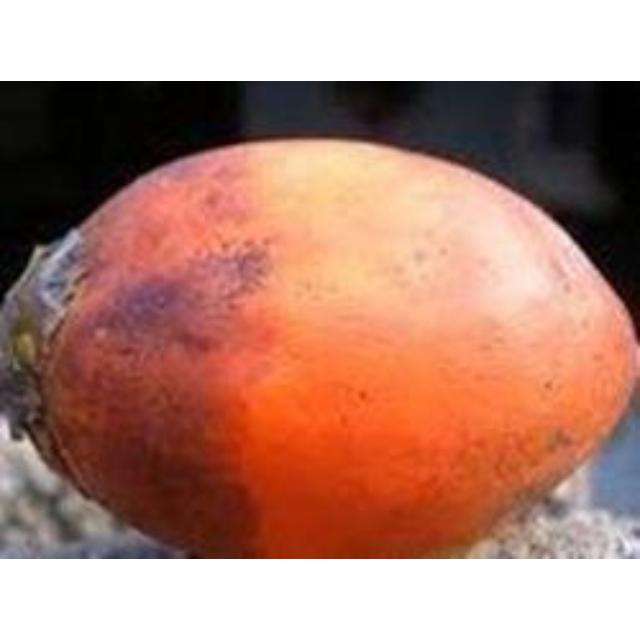good: (0, 140, 637, 557)
